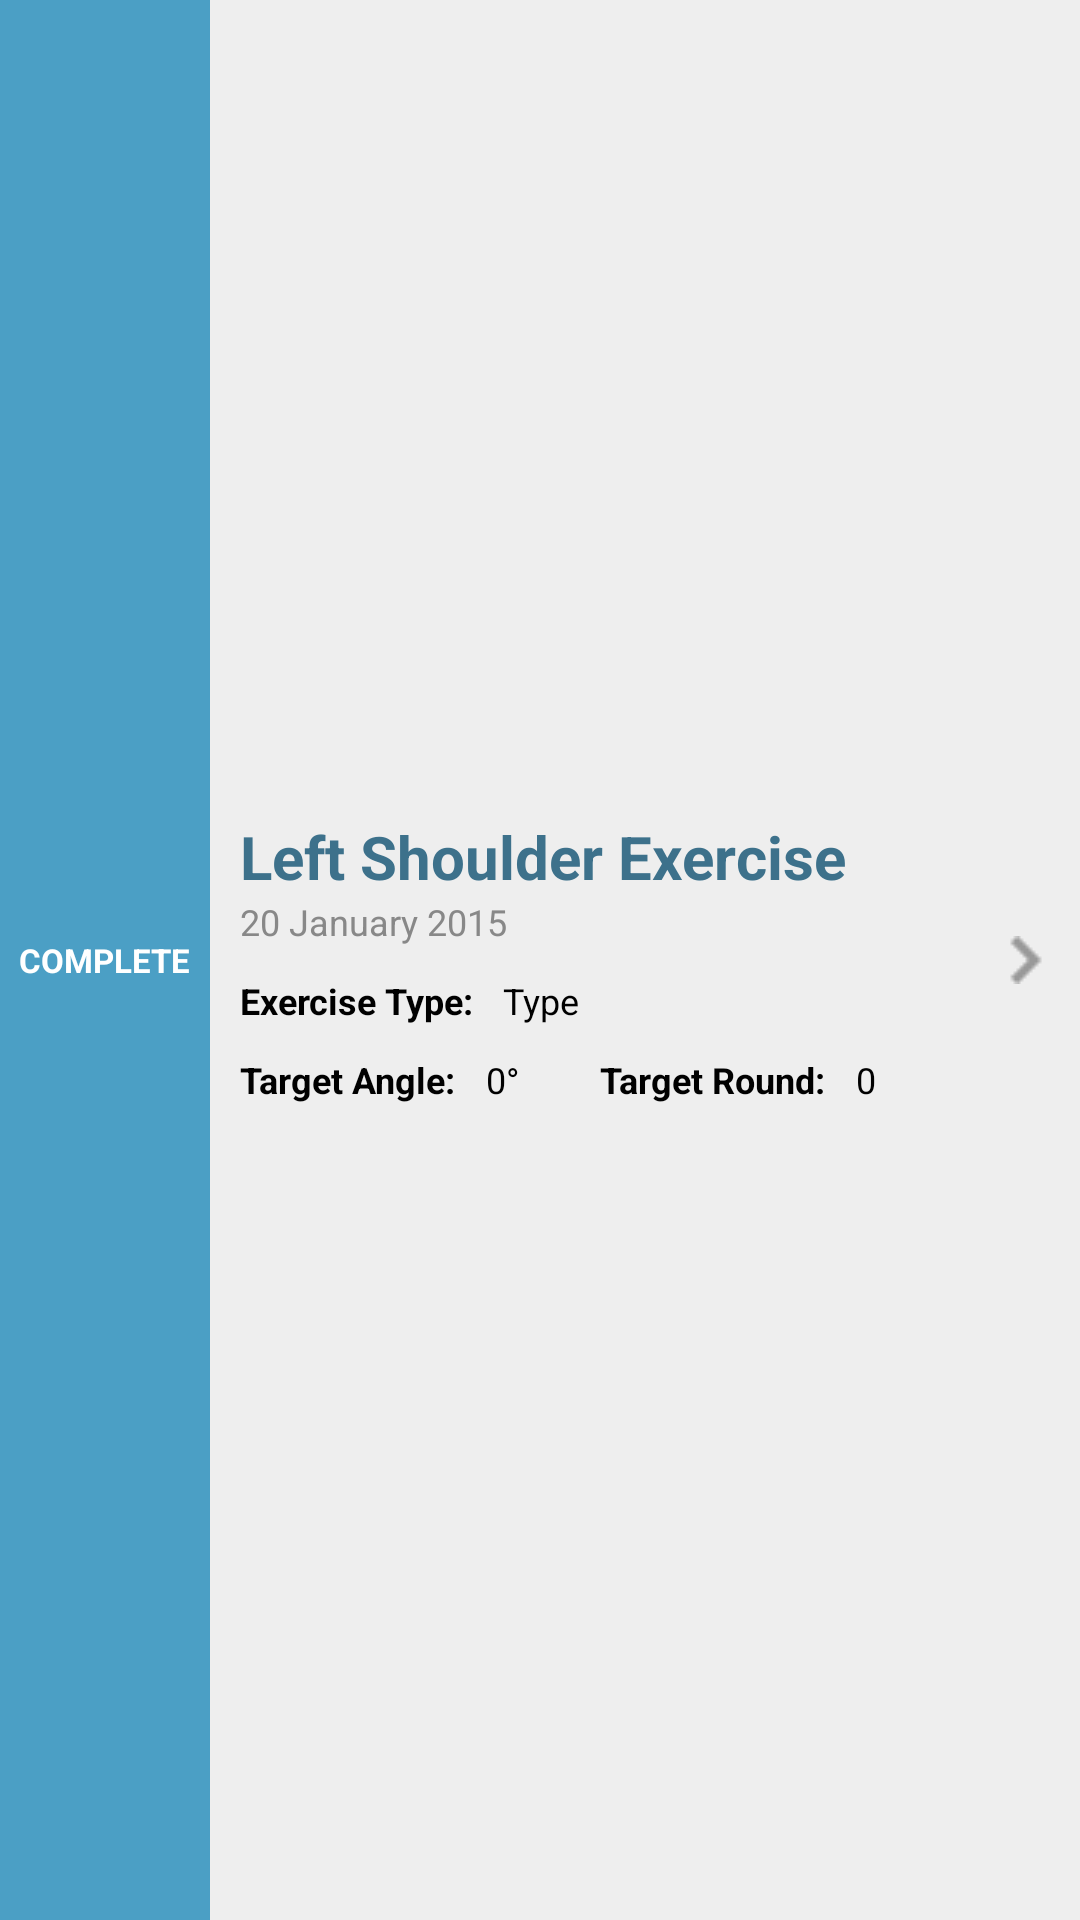

Named icons in this screenshot (1080px×1920px) and their centers, point (x, y):
arrow: point (1026, 960)
